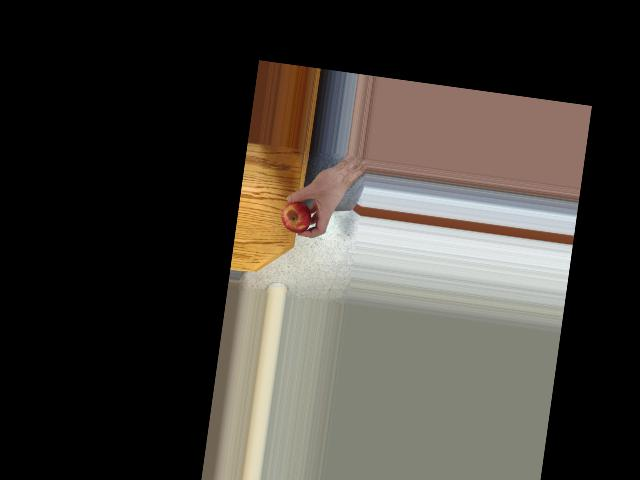apple: (279, 195, 315, 236)
